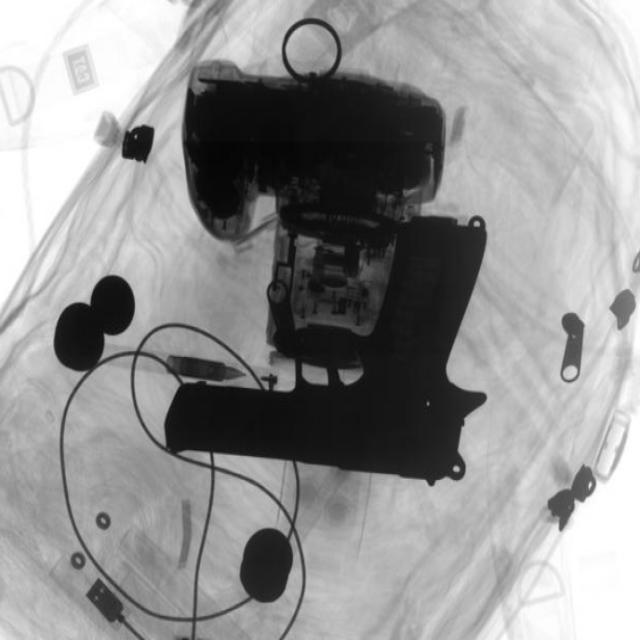GUN: (166, 230, 491, 504)
